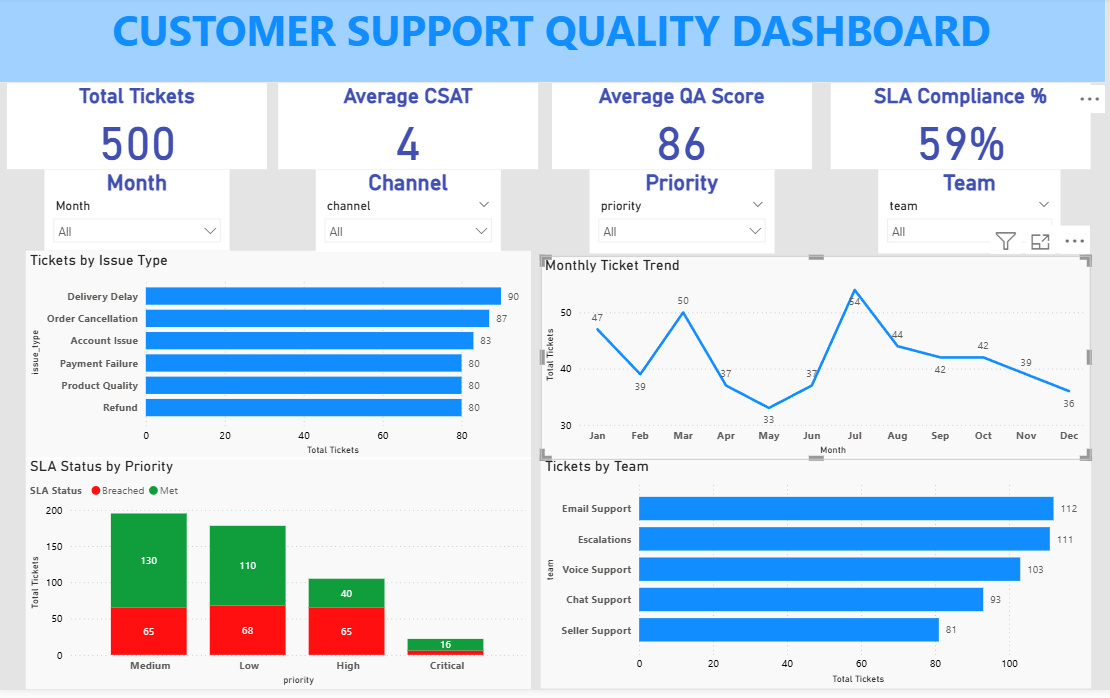

What the dashboard file says about the page in this screenshot:
{"tool":"powerbi","page":{"name":"Page 1","canvas":[1300,800],"ordinal":0},"visuals":[{"type":"card","title":"Total Tickets ","fields":{"Values":["TicketAnalysis.Total Tickets"]},"box":[11.4,99.4,299.8,99.4],"z":0},{"type":"card","title":"Average CSAT","fields":{"Values":["TicketAnalysis.Average CSAT"]},"box":[325.3,99.4,299.8,99.4],"z":1000},{"type":"card","title":"Average QA Score","fields":{"Values":["TicketAnalysis.Average QA Score"]},"box":[640.7,99.4,299.8,99.4],"z":2000},{"type":"card","title":"SLA Compliance %","fields":{"Values":["TicketAnalysis.SLA Compliance %"]},"box":[961.8,99.4,299.8,99.4],"z":3000},{"type":"slicer","title":"Priority","fields":{"Values":["TicketAnalysis.priority"]},"box":[683.9,199.1,213.5,96.7],"z":4000},{"type":"slicer","title":"Team","fields":{"Values":["TicketAnalysis.team"]},"box":[1017.2,199.1,210.7,96.7],"z":5000},{"type":"slicer","title":"Channel","fields":{"Values":["TicketAnalysis.channel"]},"box":[367.9,199.1,213.5,95.2],"z":6000},{"type":"slicer","title":"Month","fields":{"Values":["TicketAnalysis.Month"]},"box":[54.8,199.1,213.5,93.8],"z":7000},{"type":"clusteredBarChart","title":"Tickets by Team","fields":{"Category":["TicketAnalysis.team"],"Y":["TicketAnalysis.Total Tickets"]},"box":[627.6,531,634.9,266.9],"z":8000},{"type":"clusteredBarChart","title":"Tickets by Issue Type","fields":{"Y":["TicketAnalysis.Total Tickets"],"Category":["TicketAnalysis.issue_type"]},"box":[33.2,292.9,582.9,241],"z":9000},{"type":"lineChart","title":"Monthly Ticket Trend","fields":{"Category":["TicketAnalysis.Month"],"Y":["TicketAnalysis.Total Tickets"]},"box":[627.6,298.7,634.9,235.2],"z":10000},{"type":"columnChart","title":"SLA Status by Priority","fields":{"Category":["TicketAnalysis.priority"],"Y":["TicketAnalysis.Total Tickets"],"Series":["TicketAnalysis.SLA Status "]},"box":[33.2,531,582.9,268.4],"z":10001},{"type":"textbox","box":[0,0,1280,99.4],"z":10002}]}

Visuals, with their boxes in screenshot pixels (x1, y1, x2, y2), scaled from the page's 1300x800 canvas onto the 1110x698 screenshot:
"Total Tickets " card: <region>10, 87, 266, 173</region>
"Average CSAT" card: <region>278, 87, 534, 173</region>
"Average QA Score" card: <region>547, 87, 803, 173</region>
"SLA Compliance %" card: <region>821, 87, 1077, 173</region>
"Priority" slicer: <region>584, 174, 766, 258</region>
"Team" slicer: <region>869, 174, 1048, 258</region>
"Channel" slicer: <region>314, 174, 496, 257</region>
"Month" slicer: <region>47, 174, 229, 256</region>
"Tickets by Team" clusteredBarChart: <region>536, 463, 1078, 696</region>
"Tickets by Issue Type" clusteredBarChart: <region>28, 256, 526, 466</region>
"Monthly Ticket Trend" lineChart: <region>536, 261, 1078, 466</region>
"SLA Status by Priority" columnChart: <region>28, 463, 526, 697</region>
textbox: <region>0, 0, 1093, 87</region>
